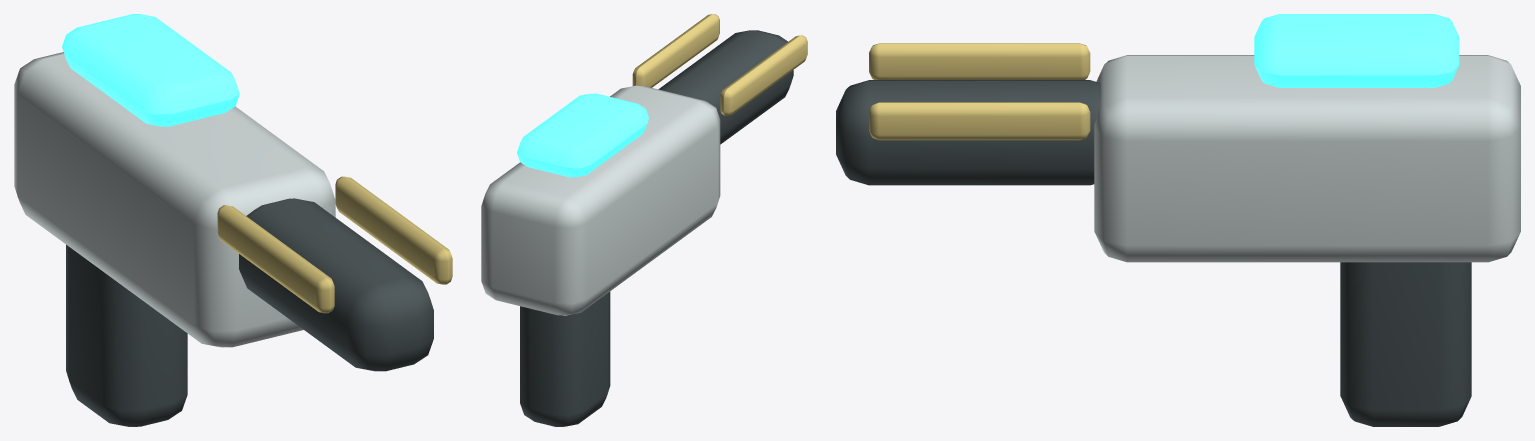
File: tool.glb
3 views of the same model, side by side, from view 1: azimuth 30°, elevation 25°; view 2: azimuth 150°, elevation 25°; view 3: azimuth 270°, elevation 25° (orthographic). The views are drawn at different scales.
Visible parts, largest first — view 1: field tool receiver, magnetic barrel, grip, capacitor, copper contact.001, copper contact; view 2: field tool receiver, grip, capacitor, magnetic barrel, copper contact, copper contact.001; view 3: field tool receiver, grip, magnetic barrel, capacitor, copper contact.001, copper contact.
Part boxes in pixels (x1,y1,x2,y2): field tool receiver: [14, 52, 335, 347]; magnetic barrel: [239, 198, 433, 371]; grip: [66, 244, 187, 426]; capacitor: [62, 14, 239, 126]; copper contact.001: [335, 176, 452, 284]; copper contact: [217, 205, 334, 313]; field tool receiver: [481, 85, 720, 315]; grip: [520, 291, 610, 426]; capacitor: [517, 93, 648, 177]; magnetic barrel: [658, 30, 793, 144]; copper contact: [720, 35, 807, 115]; copper contact.001: [632, 14, 719, 87]; field tool receiver: [1094, 55, 1520, 262]; grip: [1340, 262, 1471, 426]; magnetic barrel: [836, 80, 1100, 185]; capacitor: [1254, 14, 1459, 87]; copper contact.001: [869, 102, 1090, 140]; copper contact: [869, 43, 1090, 79].
Bounding box in the file's own units: 0.2 × 0.525 × 0.835.
